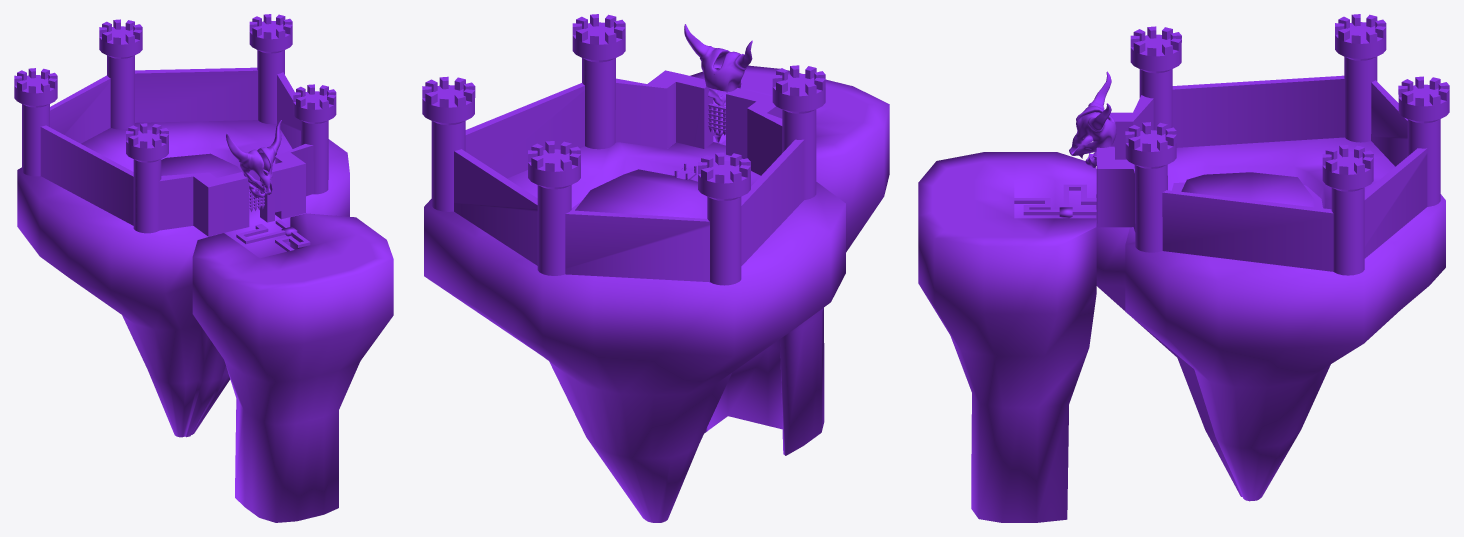
Rendered from MapaFinalBoss_v2.fbx.
The picture shows the model from 3 angles, left to right: view 1: azimuth 30°, elevation 25°; view 2: azimuth 150°, elevation 25°; view 3: azimuth 270°, elevation 25°; orthographic projection. The views are drawn at different scales.
Parts seen in each view (by area): view 1: Plane001, Box001, Cylinder011, Cylinder014, Cylinder013, Cylinder015, Cylinder012, Plane003, Box002; view 2: Plane001, Box001, Cylinder012, Cylinder015, Cylinder014, Cylinder013, Cylinder011, Plane003; view 3: Plane001, Box001, Cylinder013, Cylinder012, Cylinder015, Cylinder014, Cylinder011, Plane003, Box002.
Boxes of the visible parts, <box> form: Plane001: <box>17,120,393,522</box>; Box001: <box>40,67,313,236</box>; Cylinder011: <box>126,123,168,233</box>; Cylinder014: <box>99,19,142,129</box>; Cylinder013: <box>249,14,292,124</box>; Cylinder015: <box>14,68,57,176</box>; Cylinder012: <box>293,84,336,194</box>; Plane003: <box>226,120,281,197</box>; Box002: <box>236,219,310,251</box>; Plane001: <box>424,65,889,522</box>; Box001: <box>454,70,804,282</box>; Cylinder012: <box>572,14,625,149</box>; Cylinder015: <box>698,152,750,285</box>; Cylinder014: <box>528,141,580,275</box>; Cylinder013: <box>422,76,475,211</box>; Cylinder011: <box>772,65,825,199</box>; Plane003: <box>684,24,752,106</box>; Plane001: <box>918,137,1445,522</box>; Box001: <box>1096,75,1427,271</box>; Cylinder013: <box>1322,145,1373,275</box>; Cylinder012: <box>1125,122,1176,252</box>; Cylinder015: <box>1335,14,1386,142</box>; Cylinder014: <box>1398,76,1449,206</box>; Cylinder011: <box>1130,26,1181,130</box>; Plane003: <box>1069,71,1116,167</box>; Box002: <box>1014,184,1096,215</box>.
Size of the model in its own units: 423 by 506 by 588.
